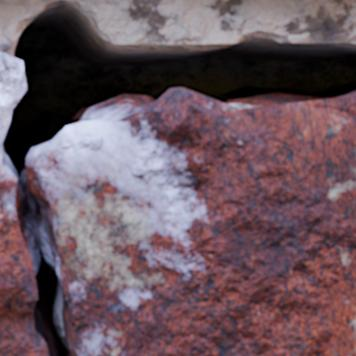broken_brick: (40, 90, 355, 355), (0, 51, 47, 355)
crack: (1, 0, 355, 355)
